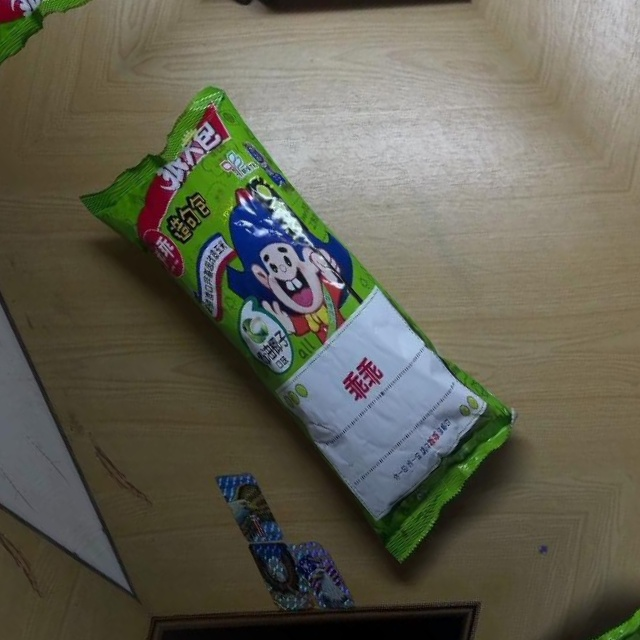Good-Luck: (75, 67, 543, 571)
